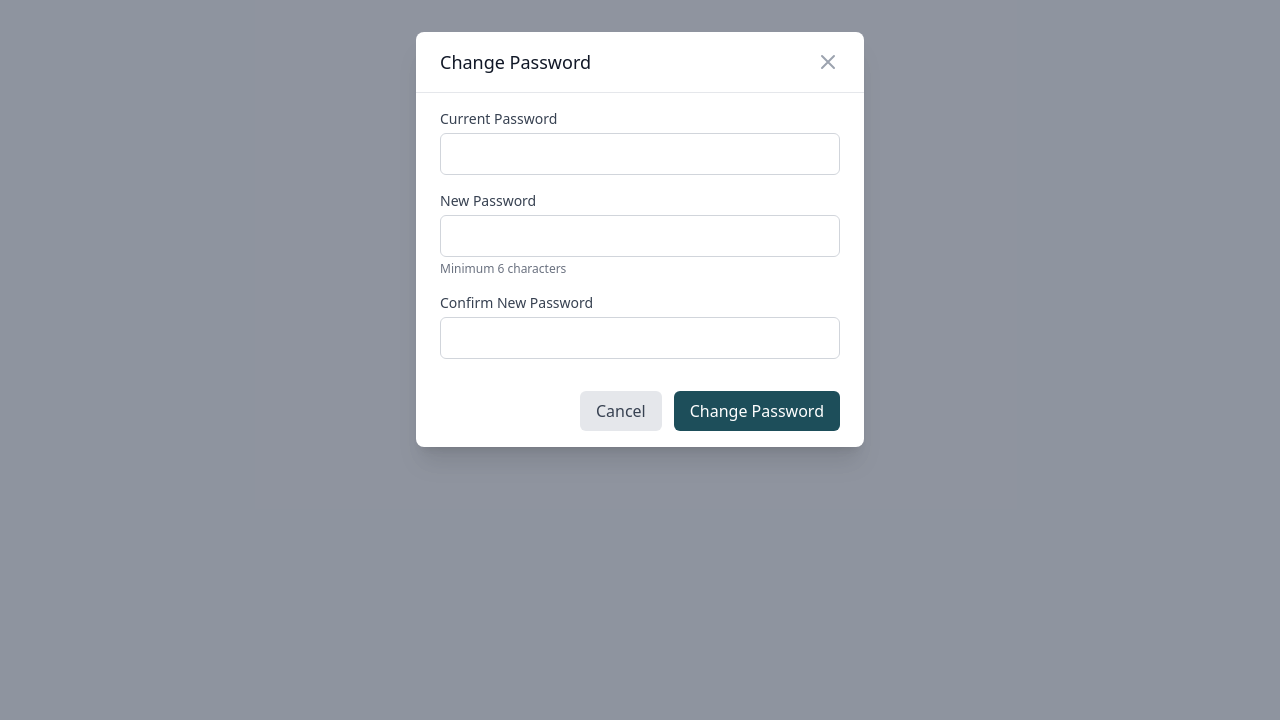
Test: ChangePasswordModal › shows error when new password is too short
The width and height of the screenshot is (1280, 720).
Type "currentpass" into the password field labelled "Current Password" at (640, 154), box [440, 133, 840, 175]
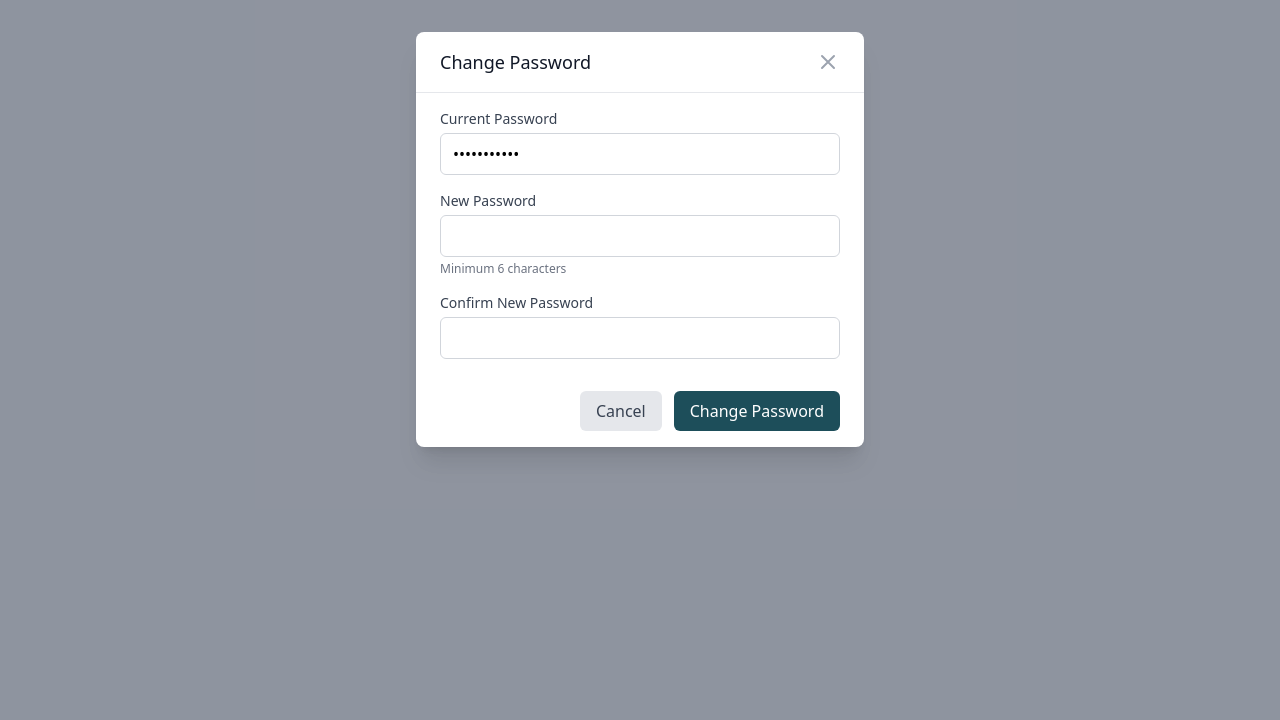
Type "12345" into the password field labelled "New Password" at (640, 236), box [440, 215, 840, 257]
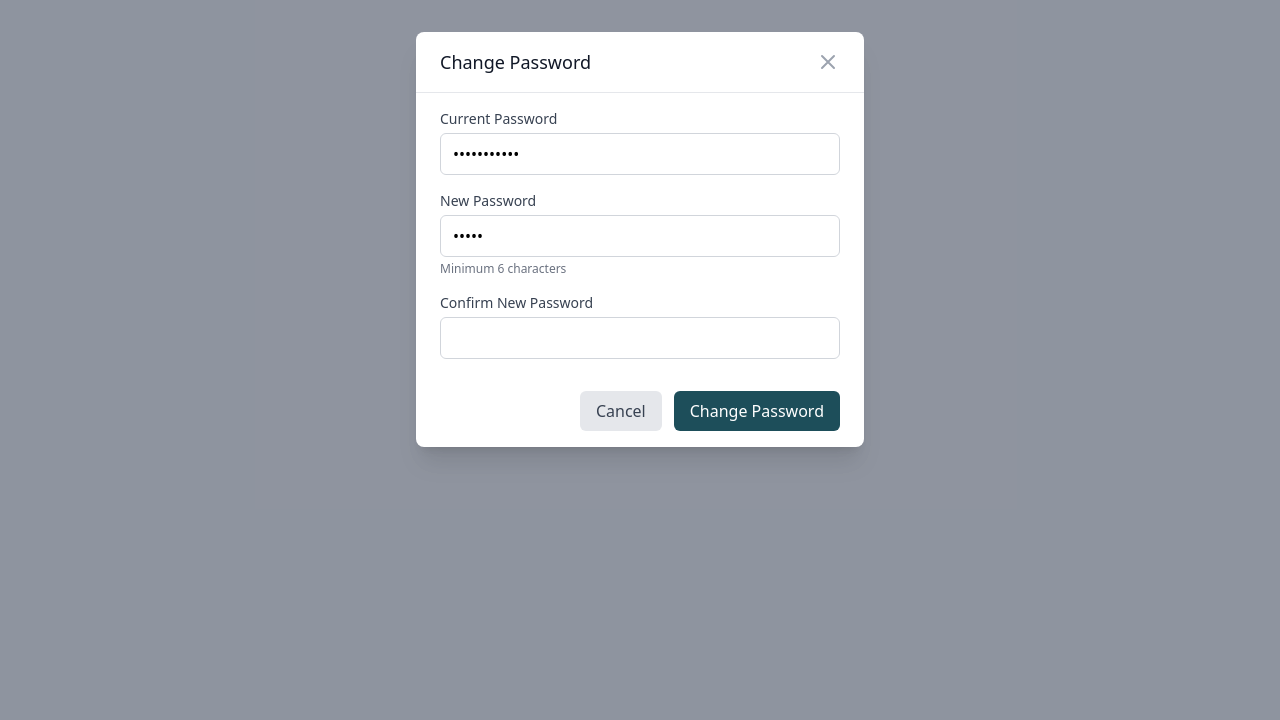
Type "12345" into the password field labelled "Confirm New Password" at (640, 338), box [440, 317, 840, 359]
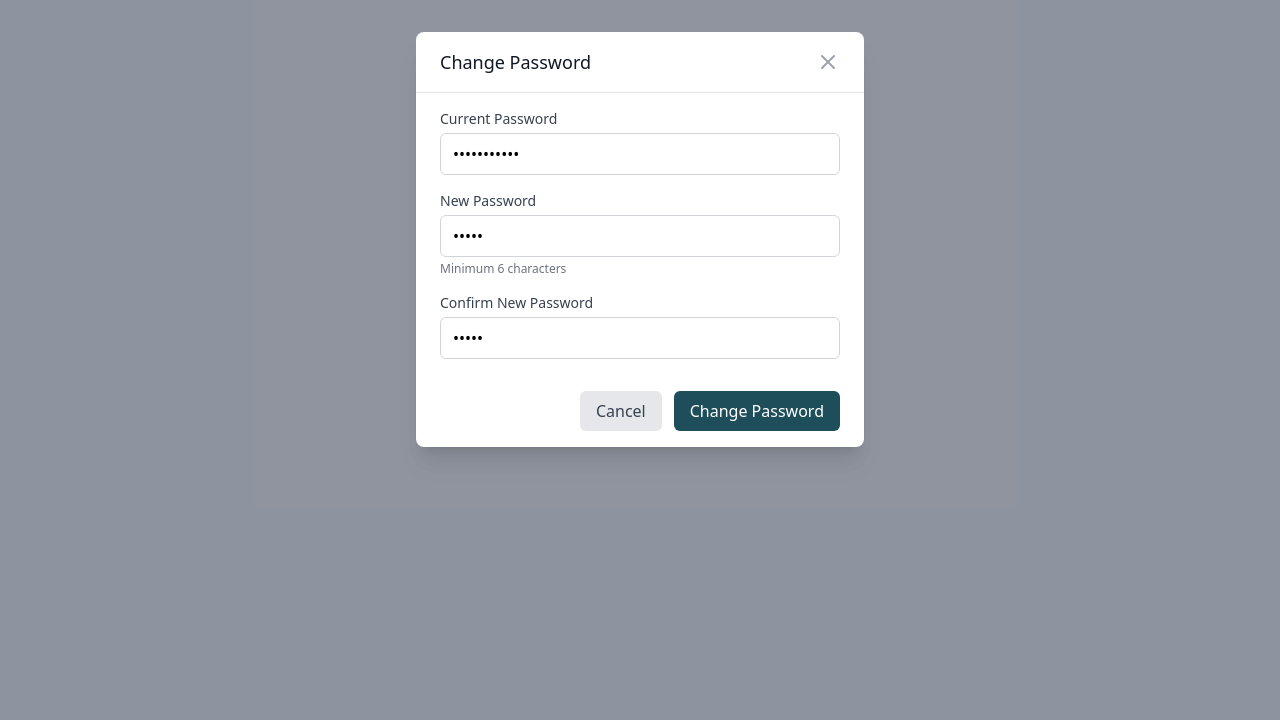
Click the button "Change Password" at (757, 411), box [674, 391, 840, 431]
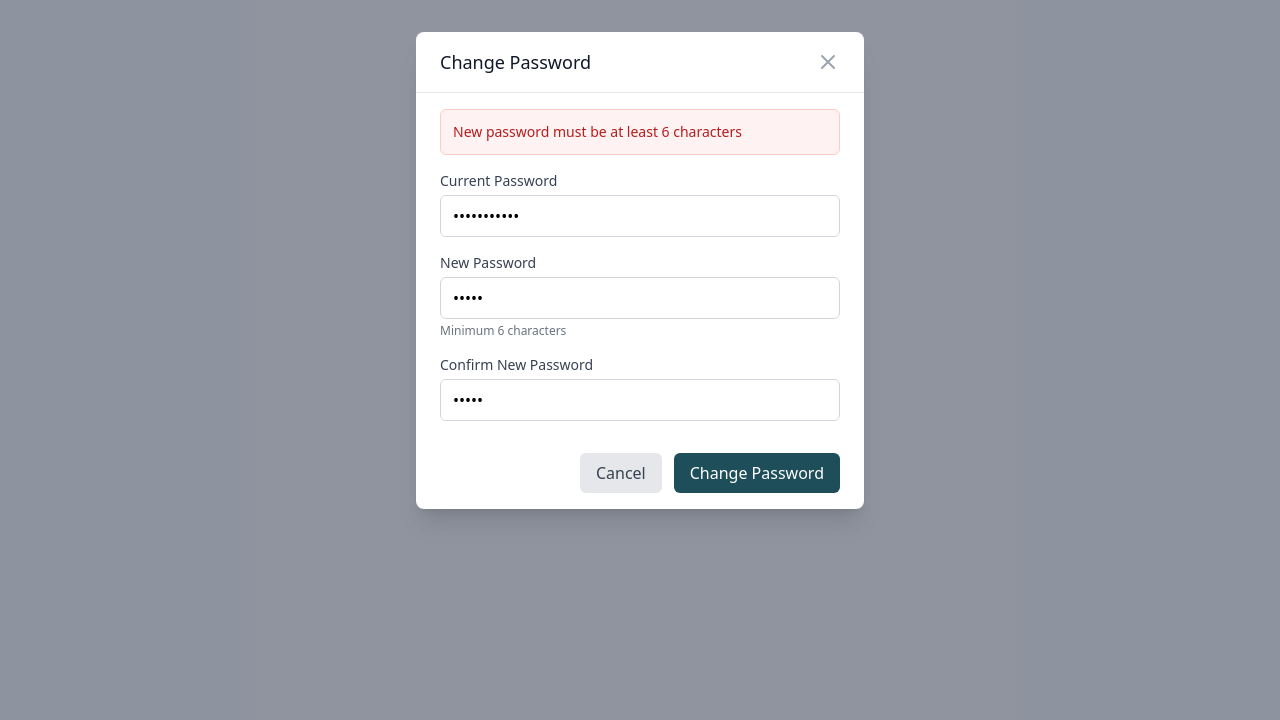
Now the text "New password must be at least 6 characters" is shown, box [440, 109, 840, 155]
